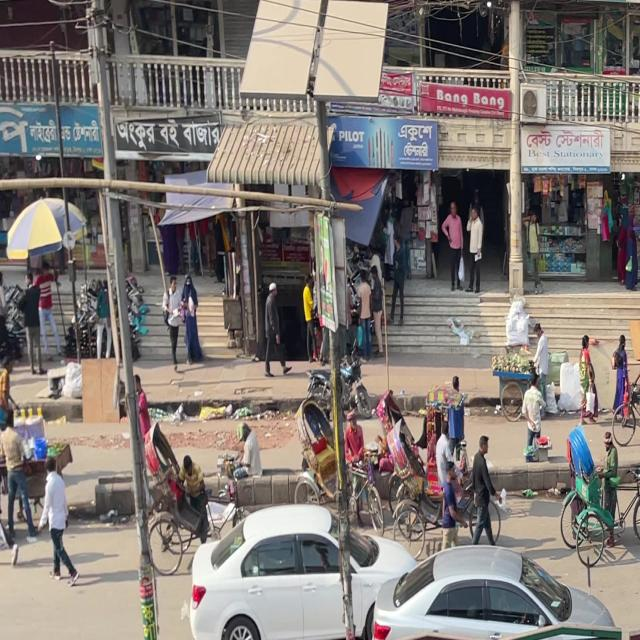car: (184, 501, 434, 640), (373, 546, 624, 640)
